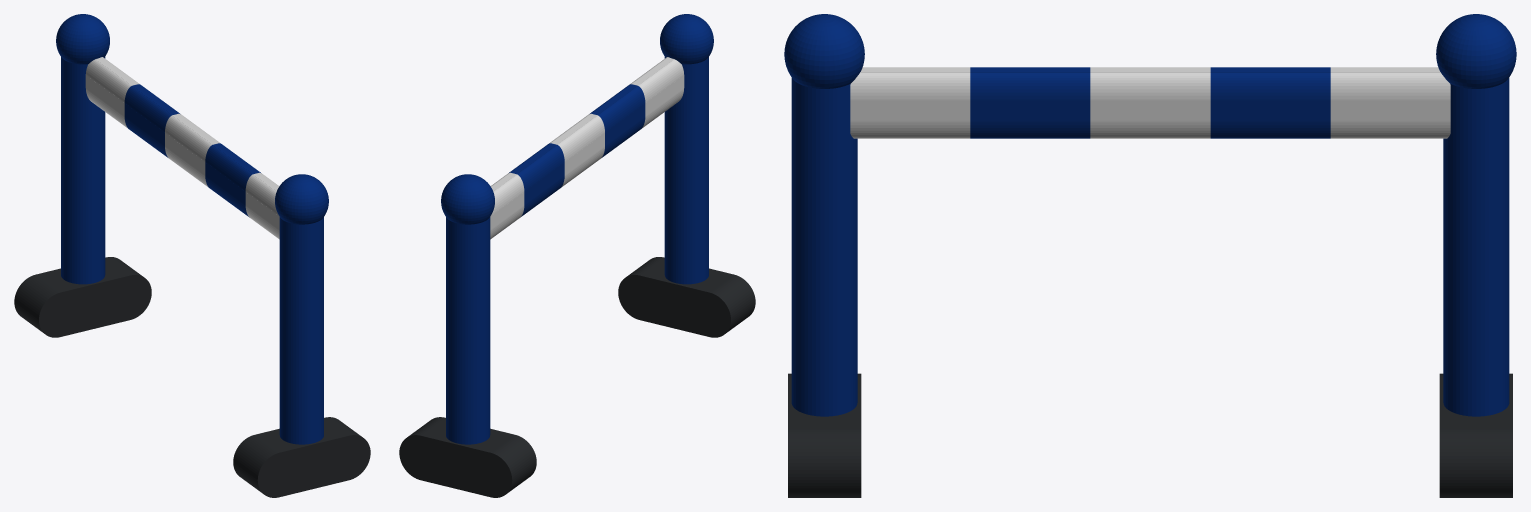
The model's file is hurdle.glb.
3 views of the same model, side by side, from view 1: azimuth 30°, elevation 25°; view 2: azimuth 150°, elevation 25°; view 3: azimuth 270°, elevation 25° (orthographic). The views are drawn at different scales.
Parts seen in each view (by area): view 1: Mesh_Mesh_head_geo001_lambert2SG001; view 2: Mesh_Mesh_head_geo001_lambert2SG001; view 3: Mesh_Mesh_head_geo001_lambert2SG001.
Part boxes in pixels (x1,y1,x2,y2): Mesh_Mesh_head_geo001_lambert2SG001: [14, 14, 370, 497]; Mesh_Mesh_head_geo001_lambert2SG001: [399, 14, 755, 497]; Mesh_Mesh_head_geo001_lambert2SG001: [784, 14, 1516, 497].
Size of the model in its own units: 20.94 by 53.72 by 79.
